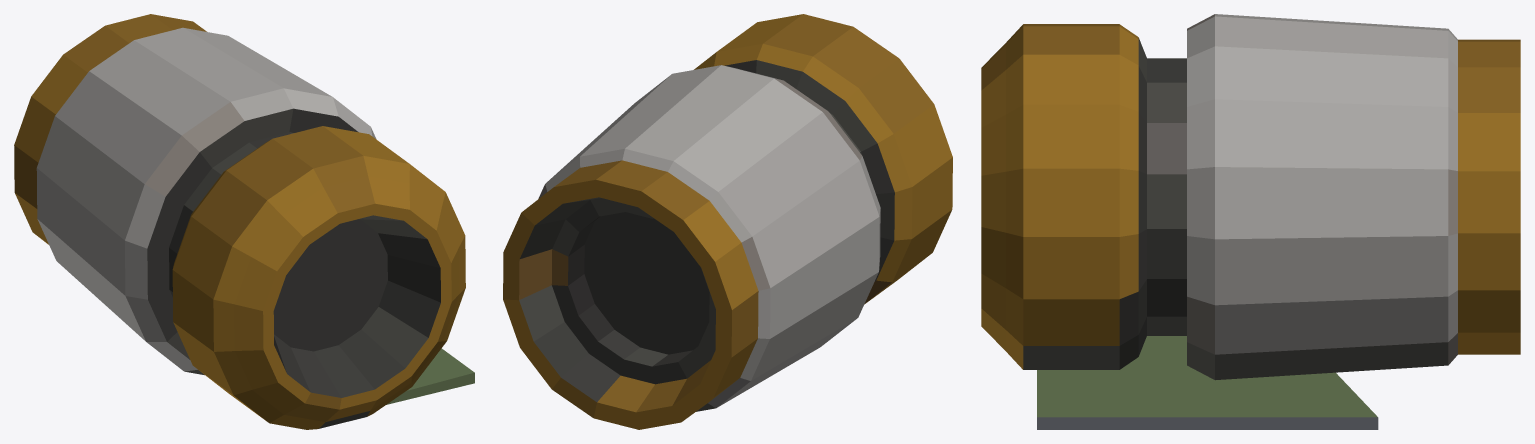
The model's file is engine_upper_port.glb.
3 renders of one model, left to right at view 1: azimuth 30°, elevation 25°; view 2: azimuth 150°, elevation 25°; view 3: azimuth 270°, elevation 25°, orthographic. The views are drawn at different scales.
Size of the model in its own units: 0.7809 by 0.7286 by 1.12.
